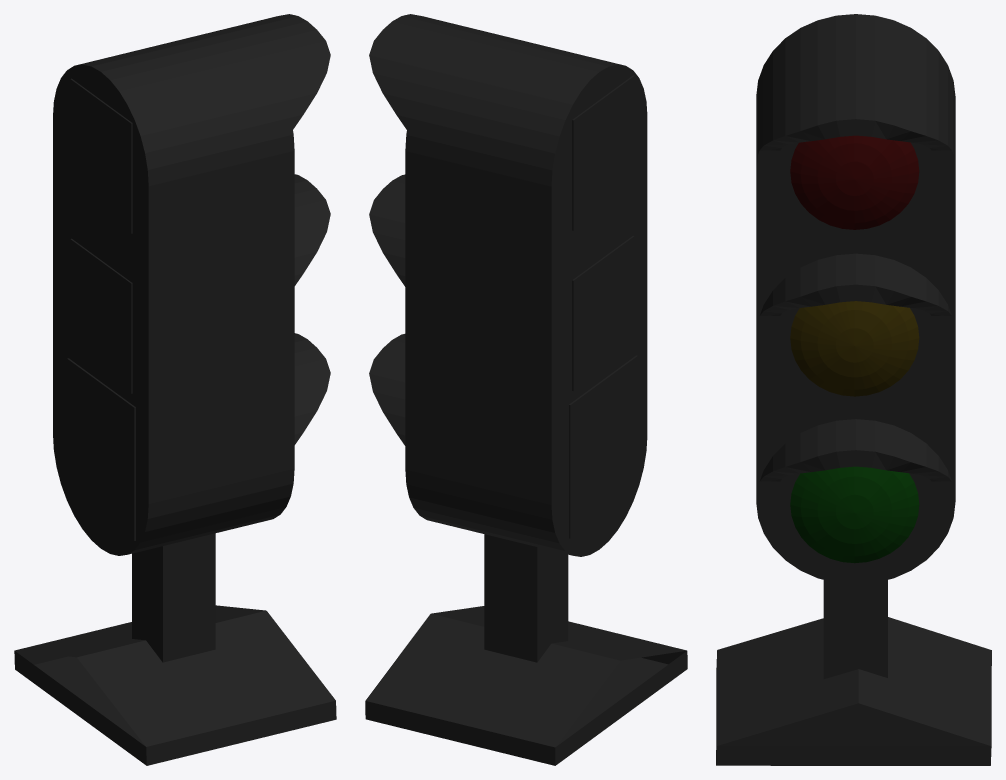
File: lights.obj
3 renders of one model, left to right at view 1: azimuth 30°, elevation 25°; view 2: azimuth 150°, elevation 25°; view 3: azimuth 270°, elevation 25°, orthographic. The views are drawn at different scales.
Parts seen in each view (by area): view 1: body; view 2: body; view 3: body, green, yellow, red.
Part boxes in pixels (bbox=[...]): body: bbox=[14, 14, 336, 765]; body: bbox=[365, 14, 687, 765]; body: bbox=[716, 14, 991, 765]; green: bbox=[790, 466, 919, 563]; yellow: bbox=[790, 301, 919, 396]; red: bbox=[790, 135, 919, 229].
Bounding box in the file's own units: 0.09 × 0.24 × 0.09.
